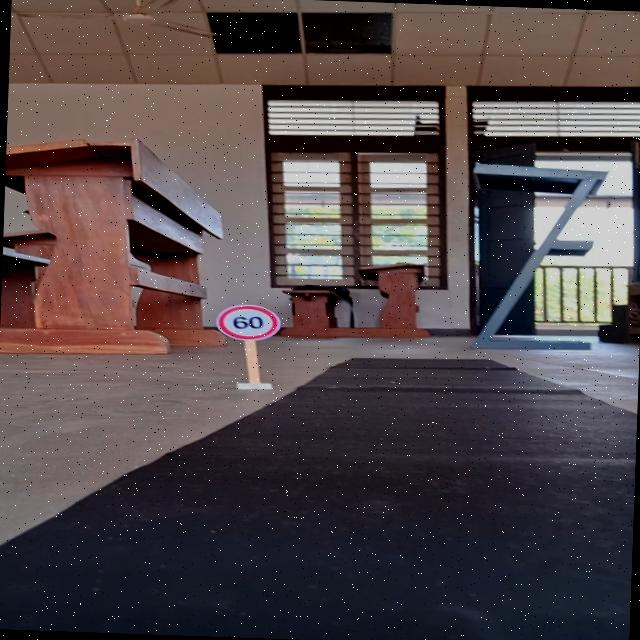Speed60: (212, 301, 283, 344)
